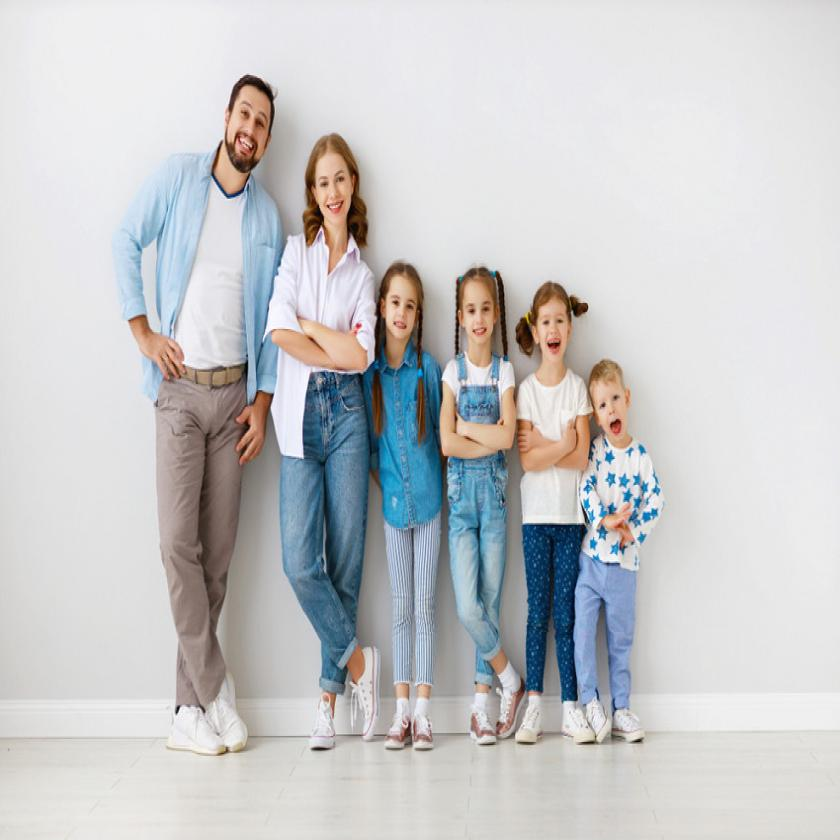Sin_casco: (217, 66, 283, 205), (308, 127, 362, 252), (379, 260, 427, 367), (582, 357, 636, 452), (528, 277, 578, 379), (455, 260, 503, 365)
